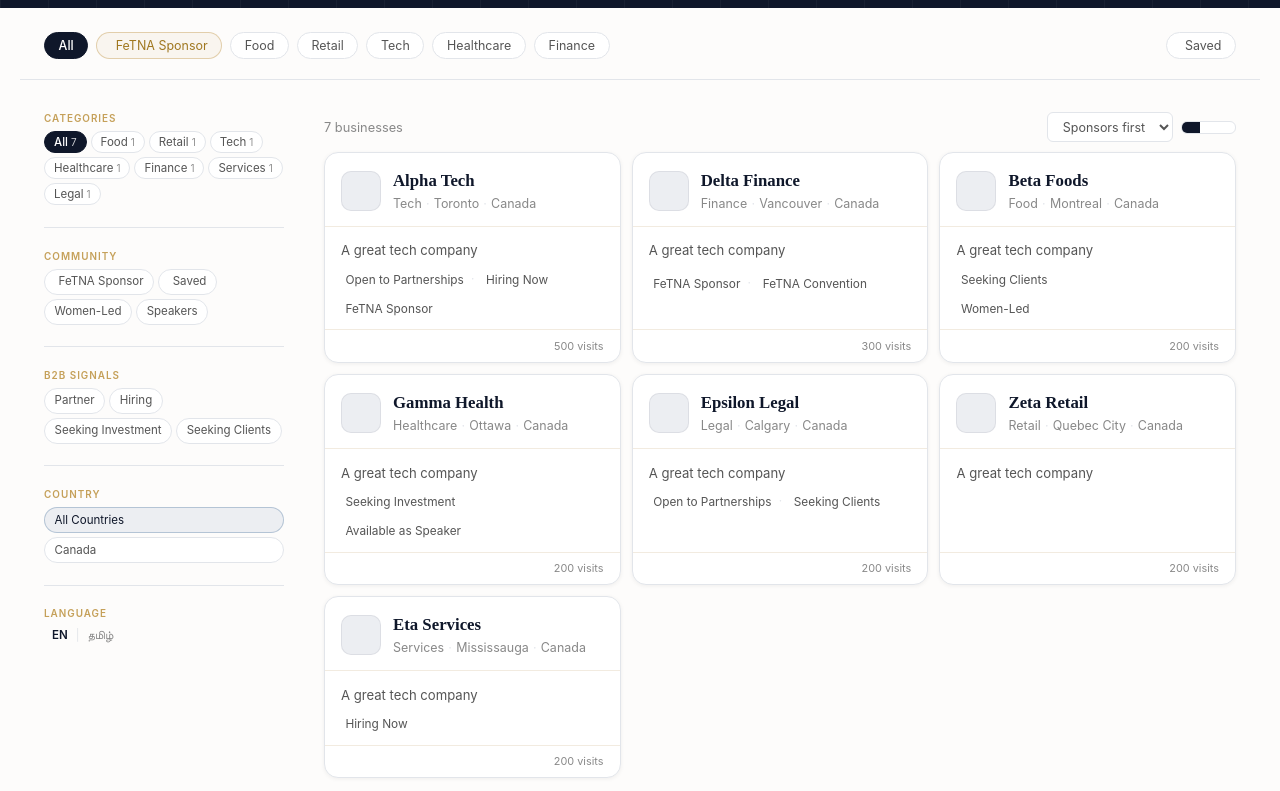
DirectoryClient — B2B signals filter › deselecting a signal removes its filter
This screenshot has width=1280, height=791.
(page scrolled)
Click the button "Hiring": (136,401) [109, 388, 163, 414]
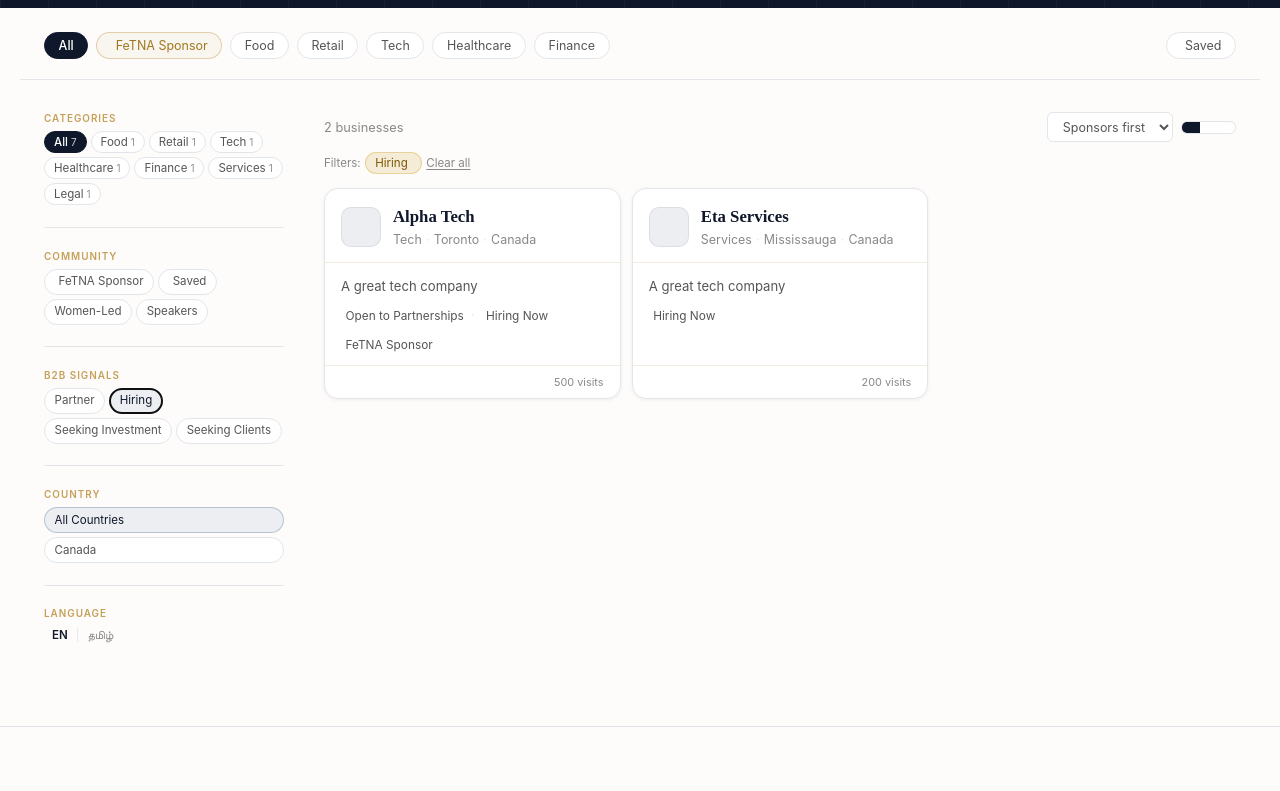
Click the button "Hiring" below "B2B Signals": (136,401) [109, 388, 163, 414]
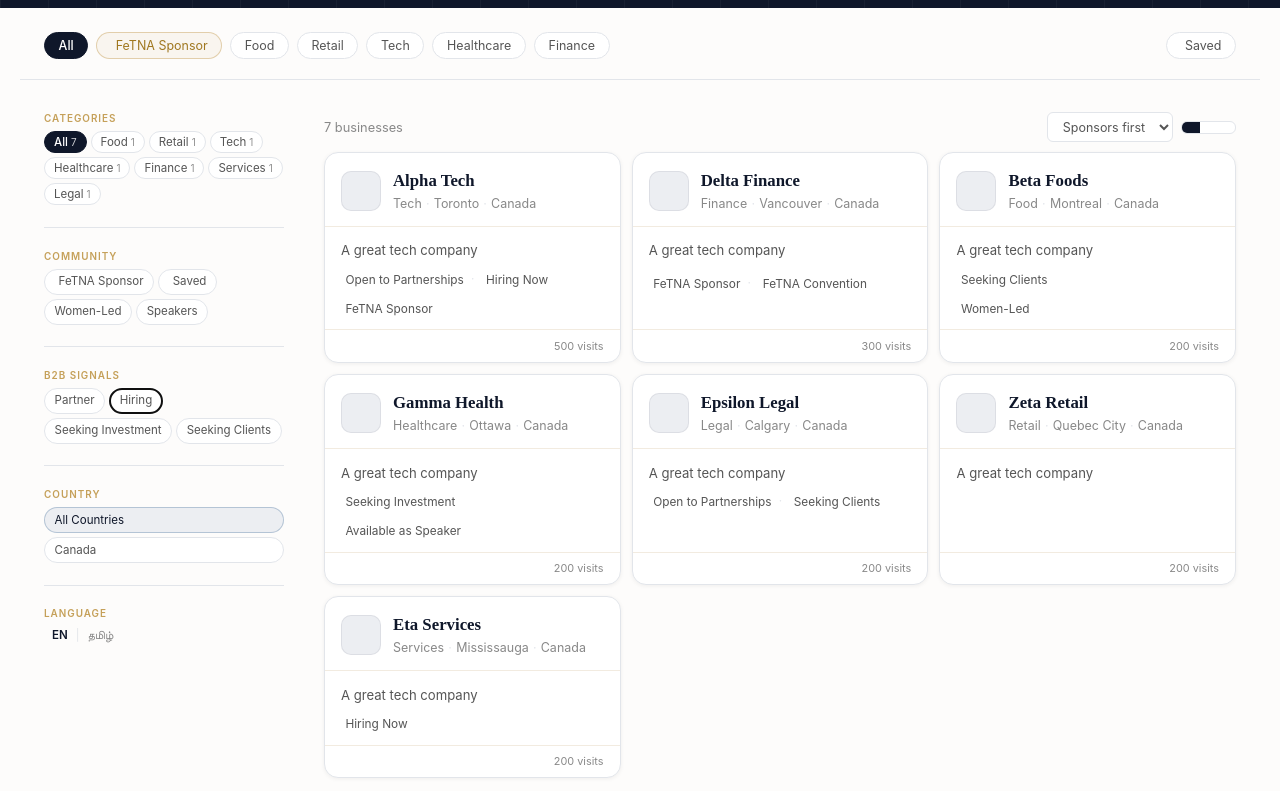
Expected: the text "7 businesses" is shown, [324, 120, 403, 135]
